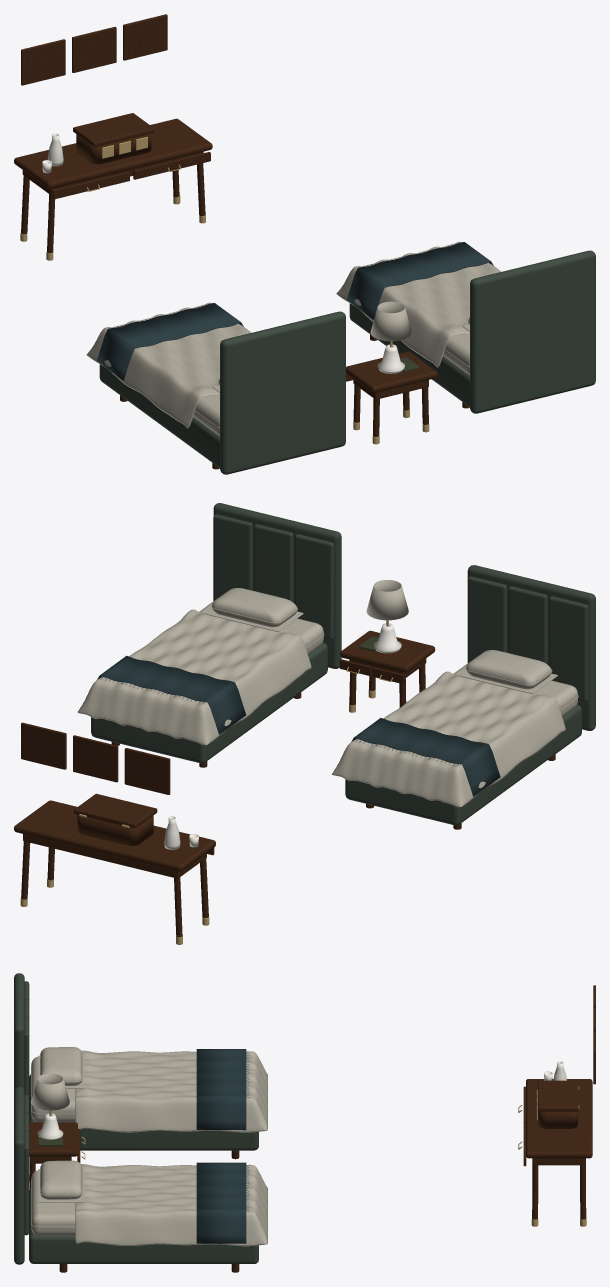
The model's file is twin-room-316.glb.
The picture shows the model from 3 angles, top to bottom: view 1: azimuth 30°, elevation 25°; view 2: azimuth 150°, elevation 25°; view 3: azimuth 270°, elevation 25°; orthographic projection. The views are drawn at different scales.
Visible parts, largest first — view 1: Crafted | Twin room | moss headboard linen, Crafted | Twin room | moss headboard linen.001, Crafted | Walnut | cut veneer.015, Crafted | Twin room | ivory cotton percale, Crafted | Twin room | ivory cotton percale.001, Crafted | Walnut | cut veneer.016, Crafted | Twin room | slate woven throw, Crafted | Twin room | slate woven throw.001, Crafted | Walnut | cut veneer.014, Companion | bookmatched hinged lid, Twin lamp | linen shade, Crafted | Glazed warm white porcelain.001 (+1 smaller); view 2: Crafted | Twin room | ivory cotton percale, Crafted | Twin room | ivory cotton percale.001, Crafted | Twin room | moss headboard linen, Crafted | Twin room | moss headboard linen.001, Crafted | Walnut | cut veneer.015, Crafted | Walnut | cut veneer.016, Crafted | Twin room | slate woven throw.001, Crafted | Twin room | slate woven throw, Crafted | Walnut | cut veneer.014, Companion | bookmatched hinged lid, Companion | lined keepsake case, Twin lamp | linen shade (+1 smaller); view 3: Crafted | Twin room | ivory cotton percale.001, Crafted | Twin room | ivory cotton percale, Crafted | Twin room | moss headboard linen.001, Crafted | Twin room | moss headboard linen, Crafted | Walnut | cut veneer.015, Crafted | Twin room | slate woven throw.001, Crafted | Twin room | slate woven throw, Crafted | Walnut | cut veneer.014, Companion | bookmatched hinged lid, Twin lamp | linen shade, Crafted | Glazed warm white porcelain.001, Companion | lined keepsake case.
Part boxes in pixels (x1,y1,x2,y2): Crafted | Twin room | moss headboard linen: (99,311,345,474); Crafted | Twin room | moss headboard linen.001: (349,250,595,413); Crafted | Walnut | cut veneer.015: (14,118,212,253); Crafted | Twin room | ivory cotton percale: (86,302,251,436); Crafted | Twin room | ivory cotton percale.001: (336,241,500,375); Crafted | Walnut | cut veneer.016: (21,14,167,85); Crafted | Twin room | slate woven throw: (97,303,243,380); Crafted | Twin room | slate woven throw.001: (347,242,493,319); Crafted | Walnut | cut veneer.014: (346,351,437,436); Companion | bookmatched hinged lid: (73,113,154,146); Twin lamp | linen shade: (370,301,411,341); Crafted | Glazed warm white porcelain.001: (42,133,404,373); Crafted | Twin room | ivory cotton percale: (332,650,578,807); Crafted | Twin room | ivory cotton percale.001: (77,588,324,745); Crafted | Twin room | moss headboard linen: (345,565,595,825); Crafted | Twin room | moss headboard linen.001: (91,503,341,763); Crafted | Walnut | cut veneer.015: (14,800,215,937); Crafted | Walnut | cut veneer.016: (21,722,170,794); Crafted | Twin room | slate woven throw.001: (97,655,245,734); Crafted | Twin room | slate woven throw: (351,718,500,796); Crafted | Walnut | cut veneer.014: (339,630,435,707); Companion | bookmatched hinged lid: (74,793,157,828); Companion | lined keepsake case: (77,814,153,845); Twin lamp | linen shade: (366,580,408,620); Crafted | Twin room | ivory cotton percale.001: (31,1160,267,1246); Crafted | Twin room | ivory cotton percale: (31,1047,267,1132); Crafted | Twin room | moss headboard linen.001: (14,1086,258,1264); Crafted | Twin room | moss headboard linen: (14,973,258,1150); Crafted | Walnut | cut veneer.015: (523,1079,592,1219); Crafted | Twin room | slate woven throw.001: (196,1162,249,1243); Crafted | Twin room | slate woven throw: (196,1049,249,1130); Crafted | Walnut | cut veneer.014: (29,1122,80,1188); Companion | bookmatched hinged lid: (537,1080,578,1111); Twin lamp | linen shade: (31,1073,69,1110); Crafted | Glazed warm white porcelain.001: (37,1061,566,1139); Companion | lined keepsake case: (538,1111,577,1128).
Size of the model in its own units: 3.79 by 1.79 by 5.41.
Materials: 9 (5 with a texture image).
